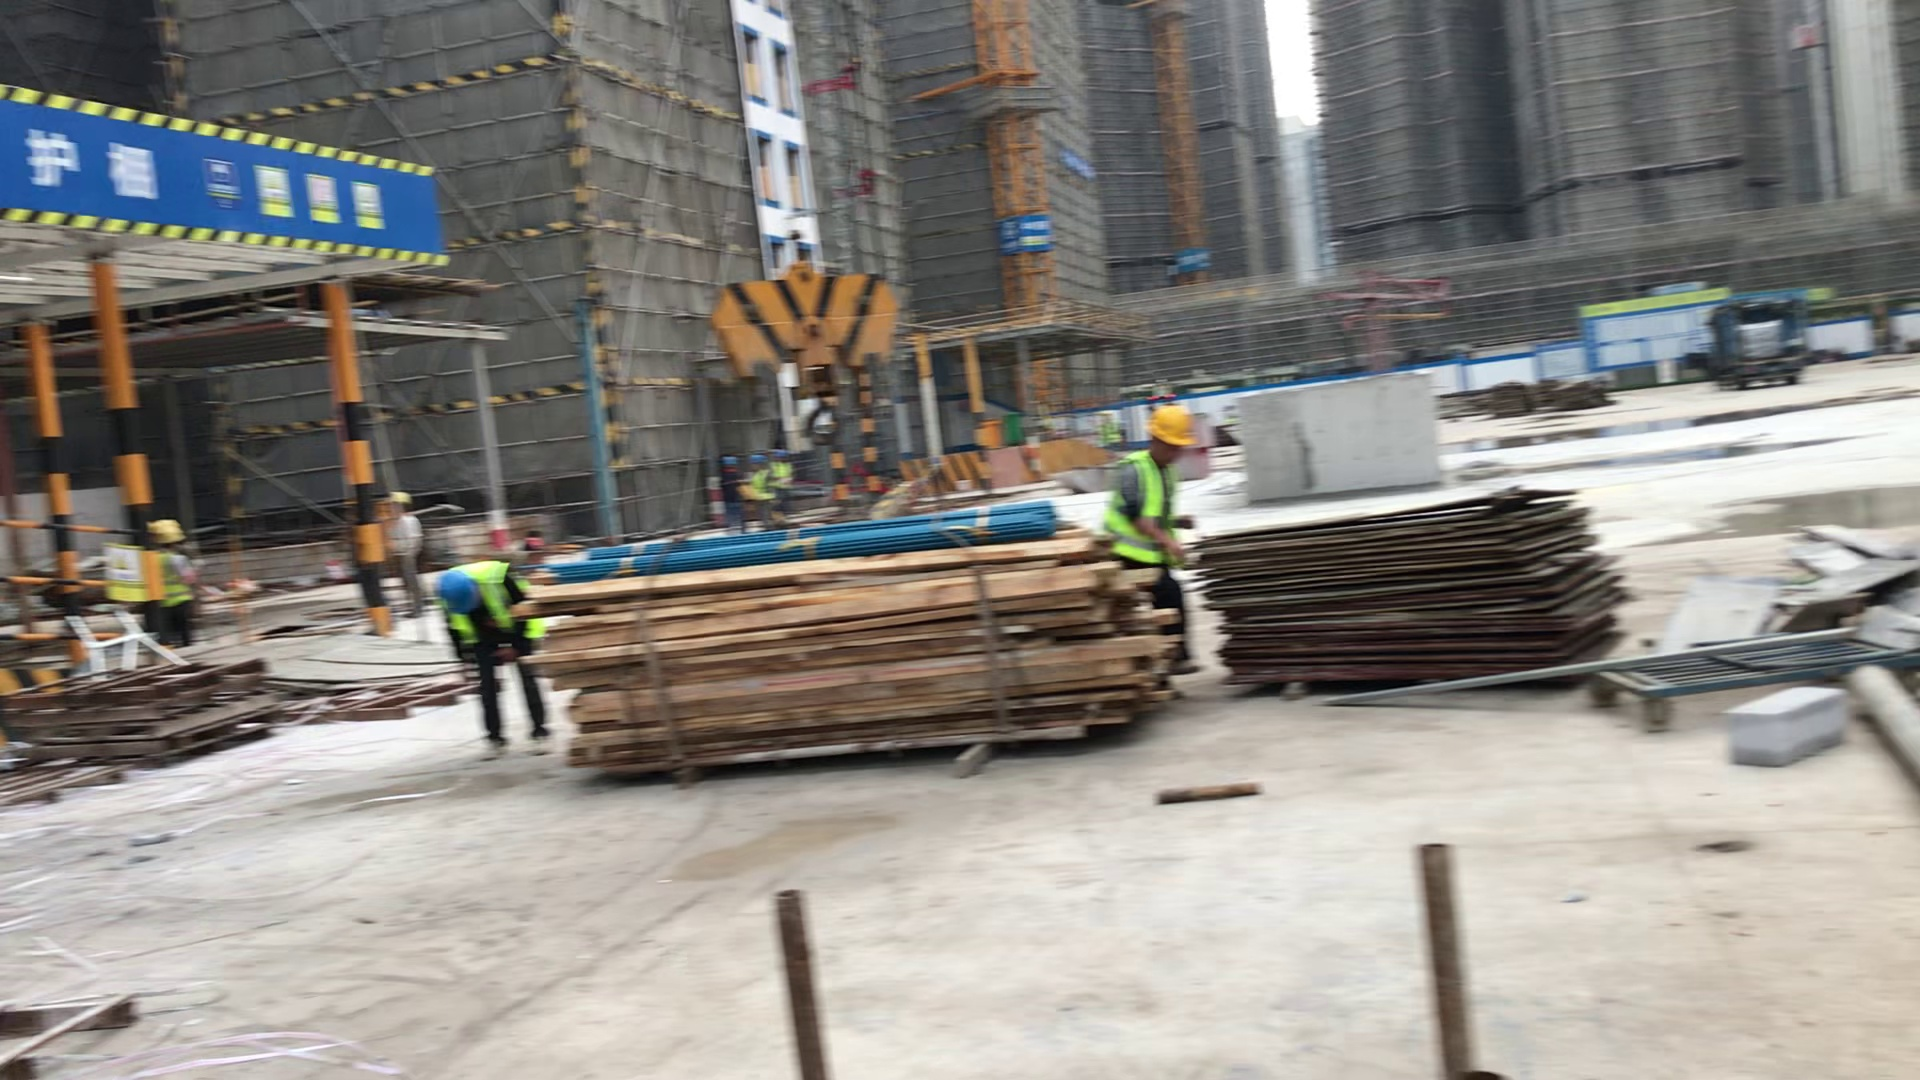board: (1208, 501, 1627, 683)
helmet: (1149, 406, 1196, 447), (436, 572, 480, 615), (158, 525, 184, 544), (389, 489, 415, 503), (722, 458, 737, 468)
hook: (709, 234, 900, 446)
hopper: (1054, 460, 1111, 499)
person: (435, 562, 554, 761), (1111, 411, 1197, 677), (383, 489, 429, 619), (154, 524, 193, 656), (750, 456, 771, 531), (771, 449, 793, 522), (720, 457, 739, 526), (1101, 410, 1120, 455)
slogan: (188, 164, 388, 233), (102, 543, 146, 610), (1067, 151, 1097, 180)
vest: (1112, 456, 1175, 567), (451, 561, 537, 640), (158, 559, 189, 606)
wood: (548, 558, 1174, 754)
